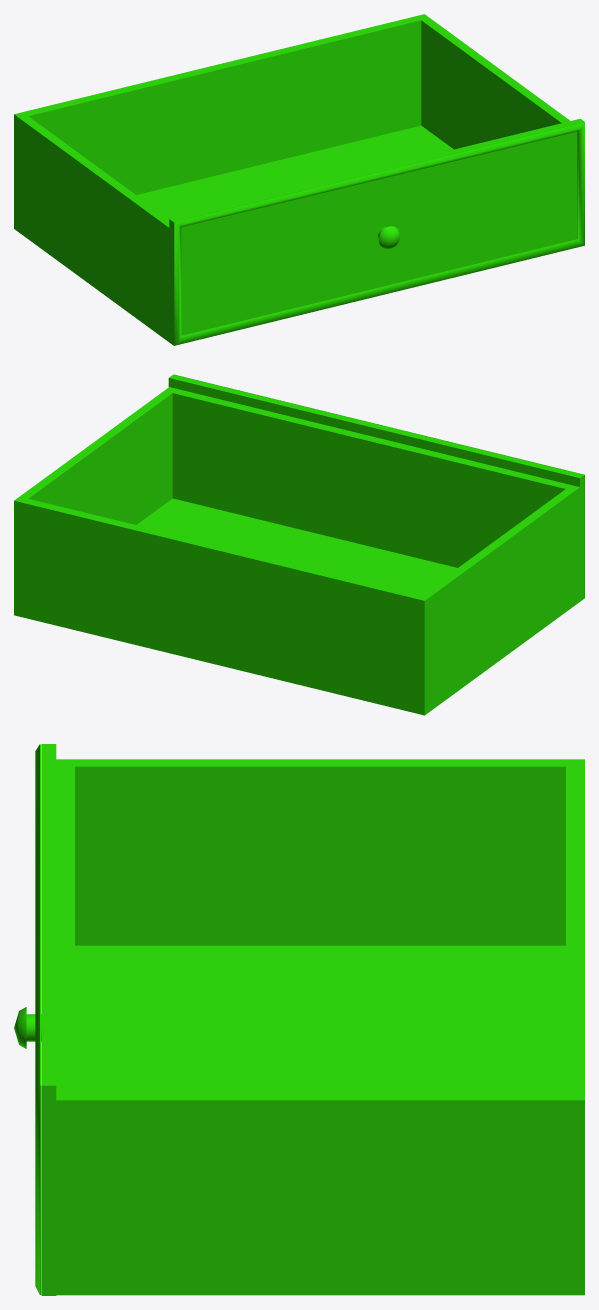
File: Cupboard_07_Drawer.fbx
3 views of the same model, one above another, from view 1: azimuth 30°, elevation 25°; view 2: azimuth 150°, elevation 25°; view 3: azimuth 270°, elevation 25° (orthographic). The views are drawn at different scales.
Parts seen in each view (by area): view 1: Cupboard_07_Drawer; view 2: Cupboard_07_Drawer; view 3: Cupboard_07_Drawer.
Boxes of the visible parts, left/top/right/bottom form: Cupboard_07_Drawer: left=14, top=14, right=584, bottom=345; Cupboard_07_Drawer: left=14, top=374, right=584, bottom=715; Cupboard_07_Drawer: left=14, top=744, right=584, bottom=1295.
Bounding box in the file's own units: 73.12 × 20.99 × 51.67.
